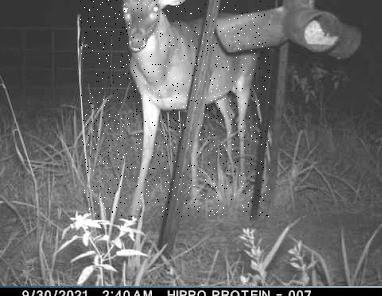Deer: (80, 0, 270, 217)
